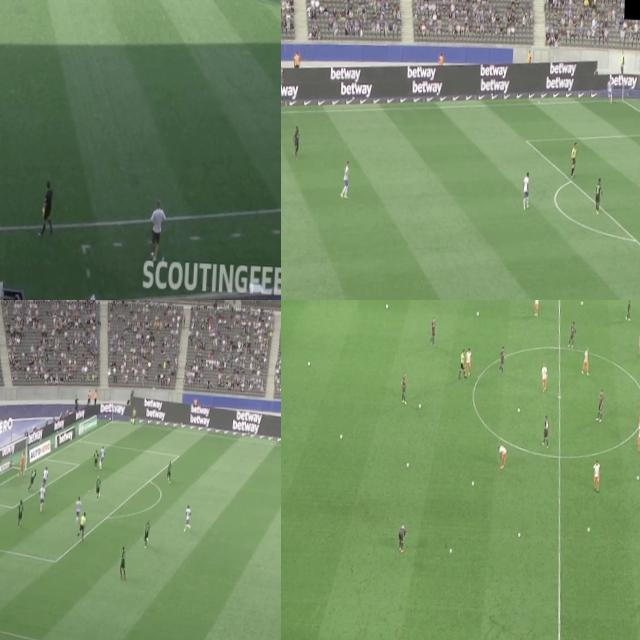ball: (306, 358, 312, 370), (470, 479, 476, 489), (448, 546, 454, 556), (518, 406, 522, 416), (476, 308, 480, 318), (385, 302, 389, 311), (339, 431, 343, 440), (406, 459, 410, 468), (518, 531, 521, 539), (586, 526, 590, 532), (581, 300, 584, 307), (637, 476, 639, 484), (419, 402, 421, 409)
player: (519, 169, 531, 210), (341, 157, 351, 201), (593, 175, 605, 211), (592, 459, 604, 493), (292, 119, 302, 158), (118, 543, 128, 581), (15, 498, 26, 530), (542, 416, 552, 451), (400, 373, 410, 405), (399, 524, 409, 554), (142, 515, 150, 551), (27, 466, 38, 491), (597, 389, 605, 423), (74, 493, 82, 525), (582, 348, 590, 380), (540, 362, 548, 394), (498, 348, 507, 376), (498, 444, 508, 469), (184, 502, 192, 532), (95, 475, 104, 501), (606, 78, 614, 106), (568, 321, 576, 348), (18, 451, 26, 476), (430, 317, 437, 345), (98, 444, 105, 470), (166, 458, 173, 484), (626, 300, 632, 326), (42, 466, 48, 490), (40, 483, 45, 511), (94, 448, 100, 471), (636, 422, 640, 452), (281, 127, 284, 166), (638, 393, 640, 425), (638, 330, 640, 358)
